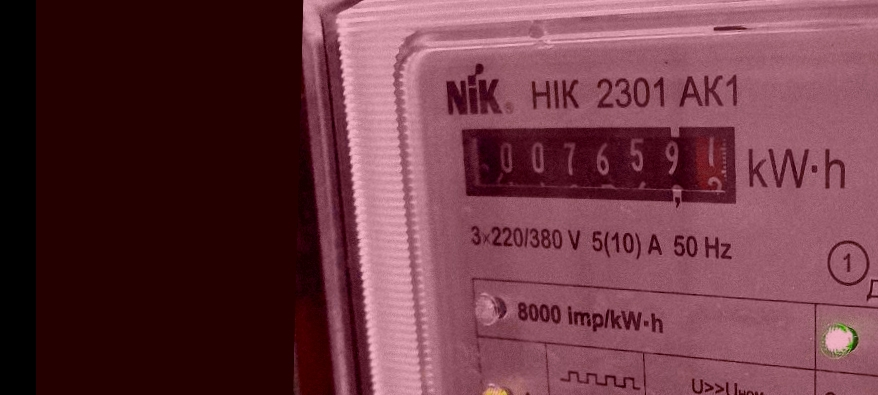0: (528, 137, 549, 177), (497, 138, 518, 177)
1: (701, 133, 721, 170)
5: (626, 135, 649, 175)
6: (592, 138, 615, 179)
7: (559, 138, 582, 177)
9: (662, 137, 684, 178)
screen: (451, 114, 746, 214)
